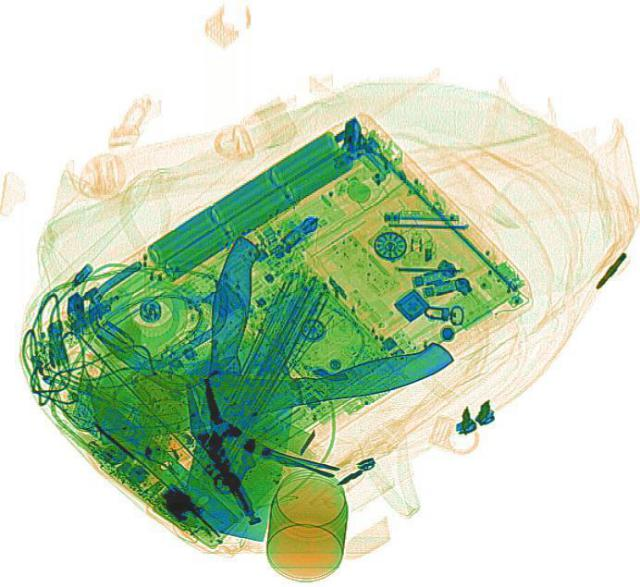Knife: (162, 233, 326, 540), (90, 332, 458, 447)
